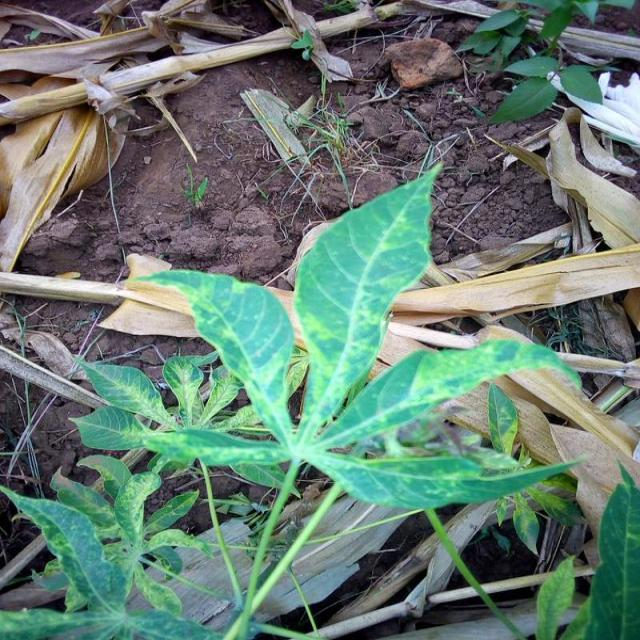cassava leaf: (291, 159, 444, 437), (126, 266, 295, 449)
